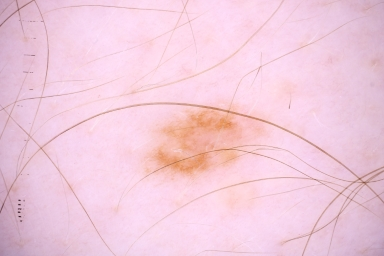nevus: (151, 115, 247, 172)
